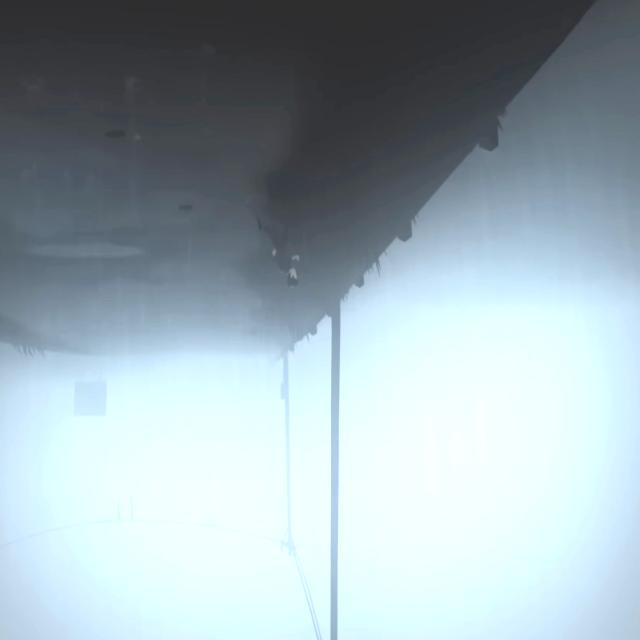boy: (257, 218, 300, 288)
